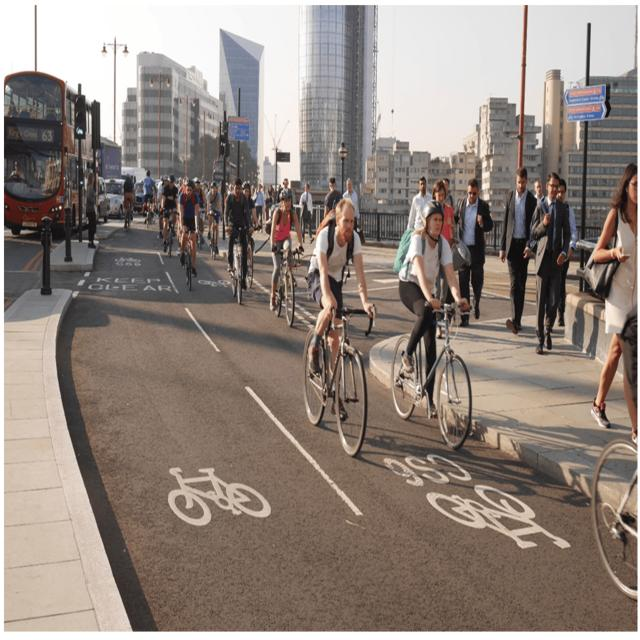bicycle: (391, 200, 471, 449), (302, 200, 376, 457), (270, 189, 304, 327), (224, 178, 254, 303), (179, 179, 200, 289), (206, 181, 222, 259)
bus: (4, 72, 79, 235)
